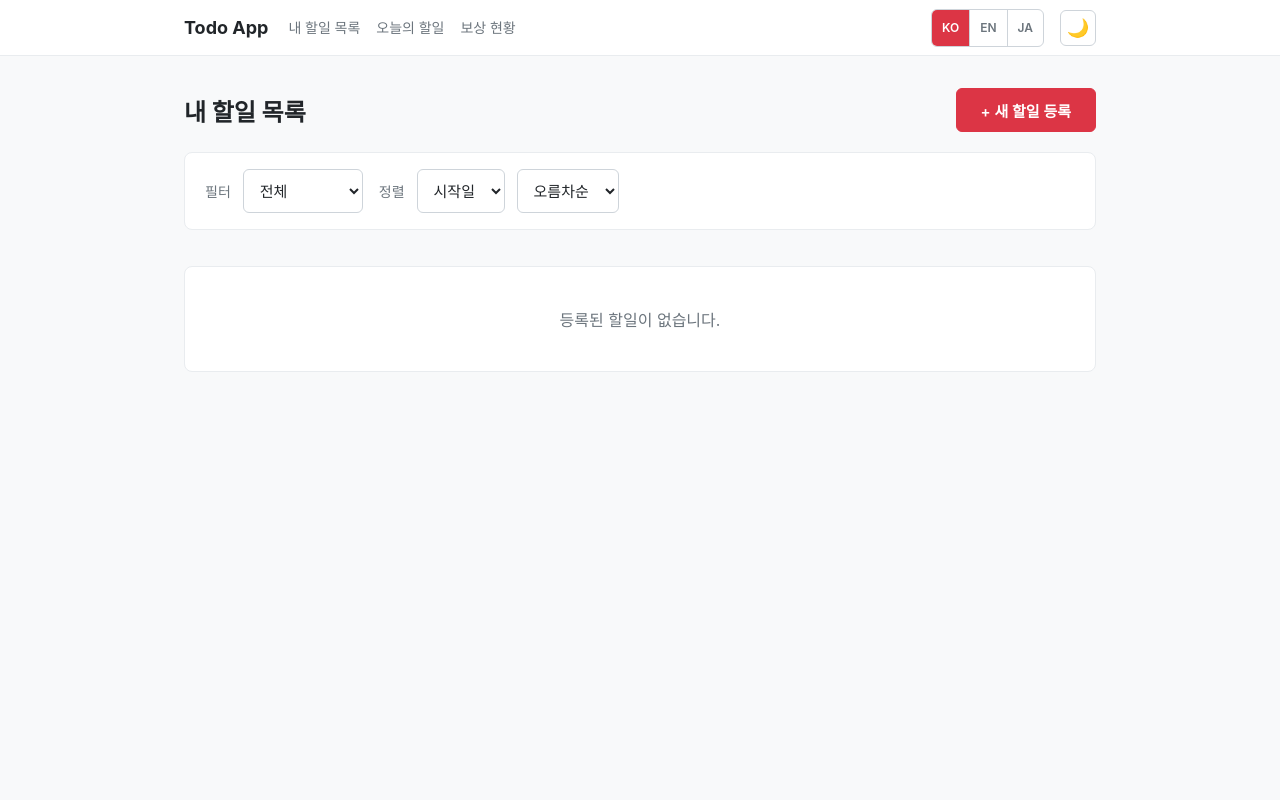
TodoListPage › "+ 새 할일 등록" 버튼 클릭 시 등록 모달이 열린다
The image size is (1280, 800).
Click the button "+ 새 할일 등록": [1026, 110] box x1=956 y1=88 x2=1096 y2=132
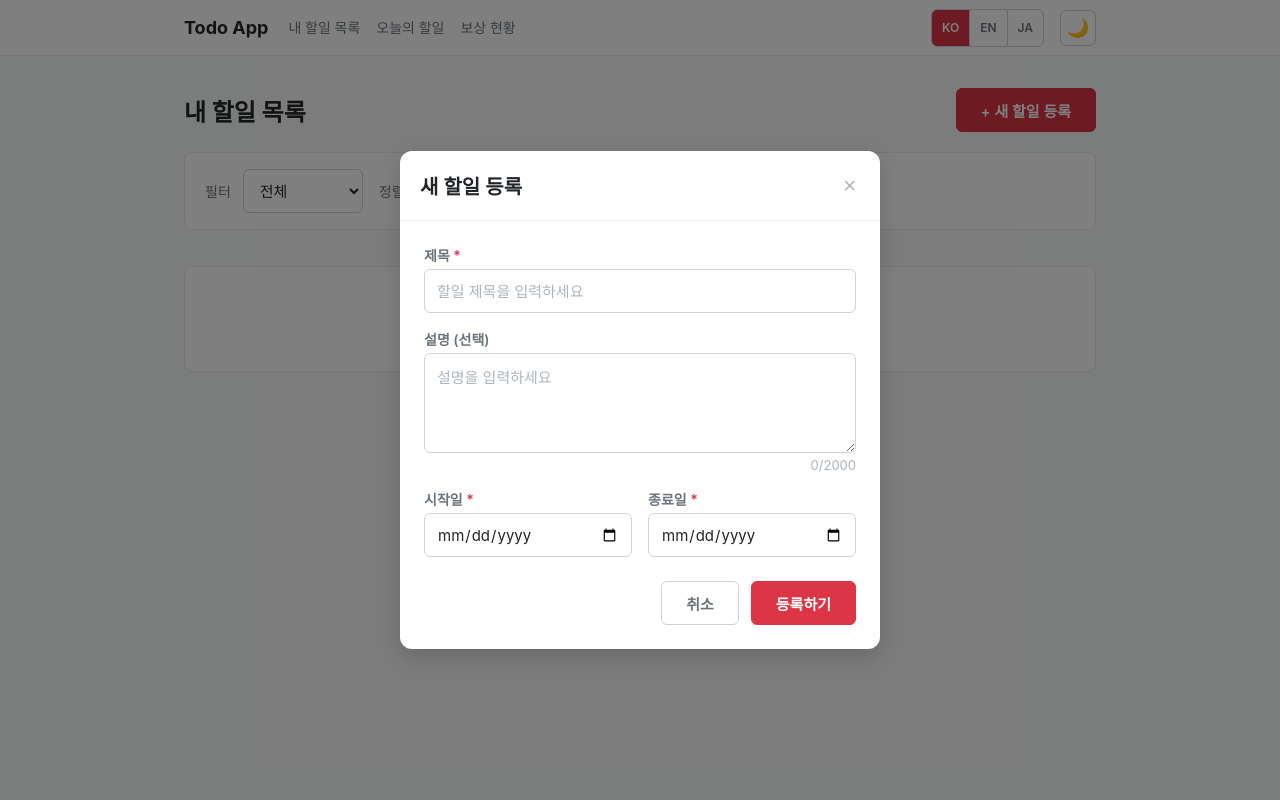
Result: the dialog is shown
Result: the heading "새 할일 등록" is shown at x1=420 y1=171 x2=522 y2=200
